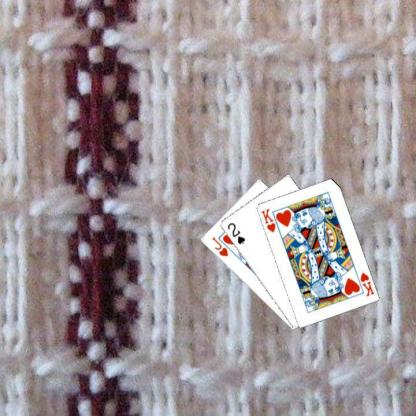2S: (225, 220, 246, 246)
JH: (209, 235, 229, 258)
KH: (258, 206, 277, 234), (357, 270, 375, 297)
